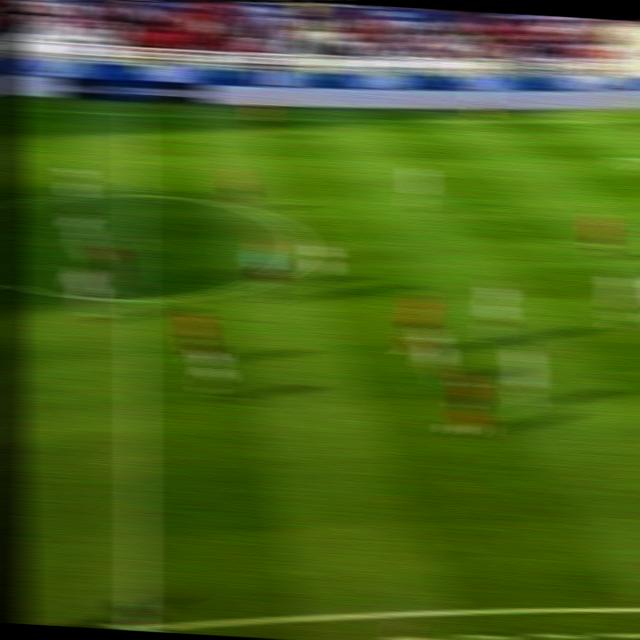bigarea_top_inner: (608, 148, 638, 169)
halfcircle_bottom: (118, 283, 156, 315)
halfcircle_top: (120, 182, 154, 206)
midline_bottom_intersection: (111, 600, 164, 632)
midline_top_intersection: (122, 102, 150, 124)
